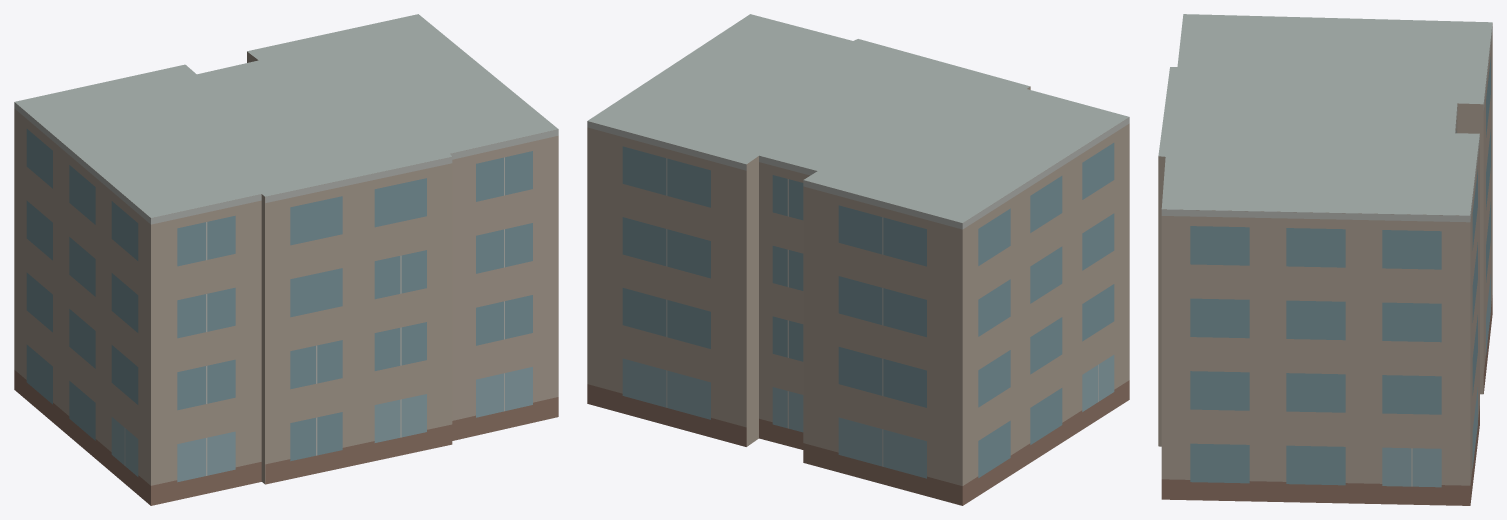
Rendered from survey-upis-32988444.glb.
The picture shows the model from 3 angles, left to right: view 1: azimuth 30°, elevation 25°; view 2: azimuth 150°, elevation 25°; view 3: azimuth 270°, elevation 25°; orthographic projection. The views are drawn at different scales.
Parts seen in each view (by area): view 1: survey-upis-32988444.tmp; view 2: survey-upis-32988444.tmp; view 3: survey-upis-32988444.tmp.
Boxes of the visible parts, bbox=[...] form: survey-upis-32988444.tmp: bbox=[14, 14, 558, 505]; survey-upis-32988444.tmp: bbox=[587, 14, 1129, 505]; survey-upis-32988444.tmp: bbox=[1158, 14, 1492, 505].
Size of the model in its own units: 16.11 by 10.8 by 11.29.
